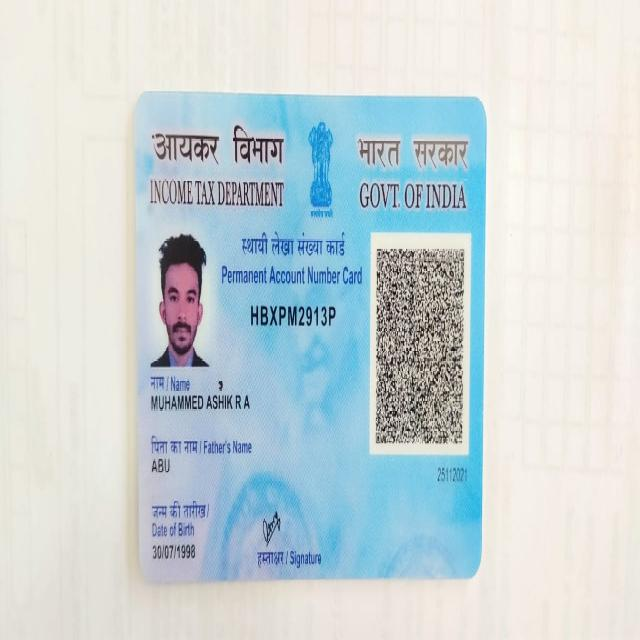pan_card: (136, 97, 480, 579)
